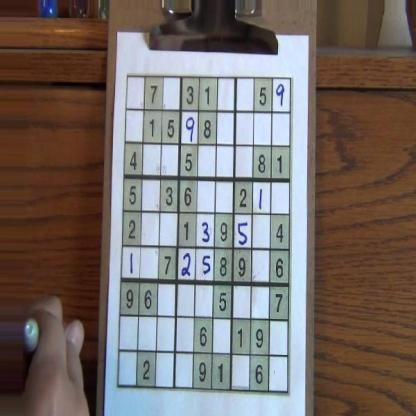sudoku: (115, 70, 296, 399)
